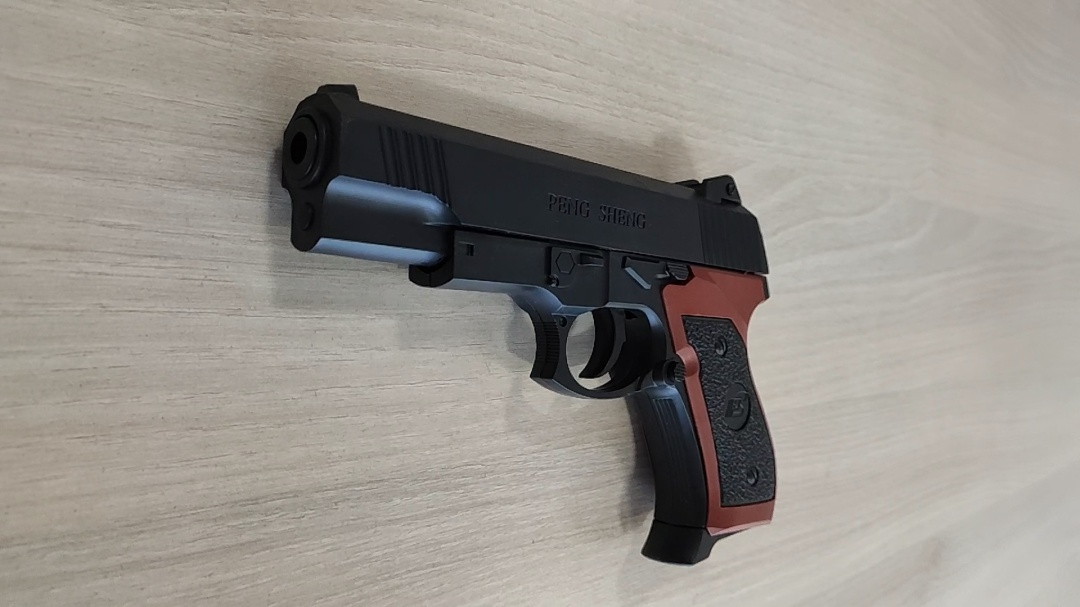gunw: (279, 81, 780, 569)
